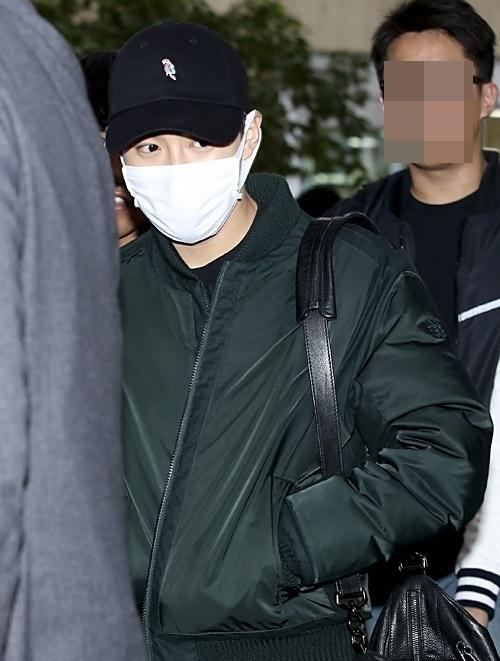OK: (115, 112, 246, 243)
